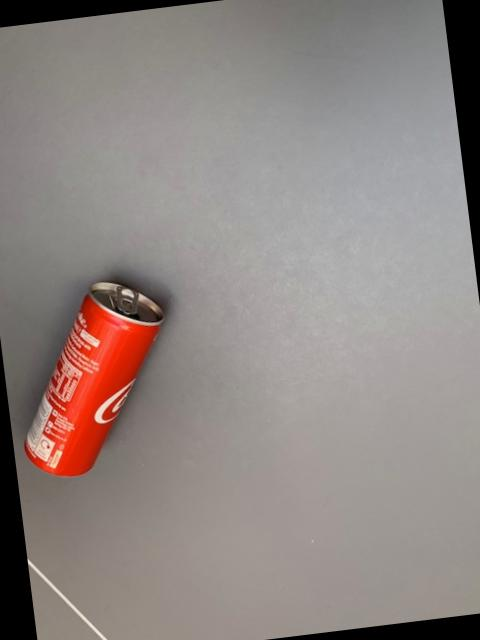metal: (26, 283, 164, 477)
